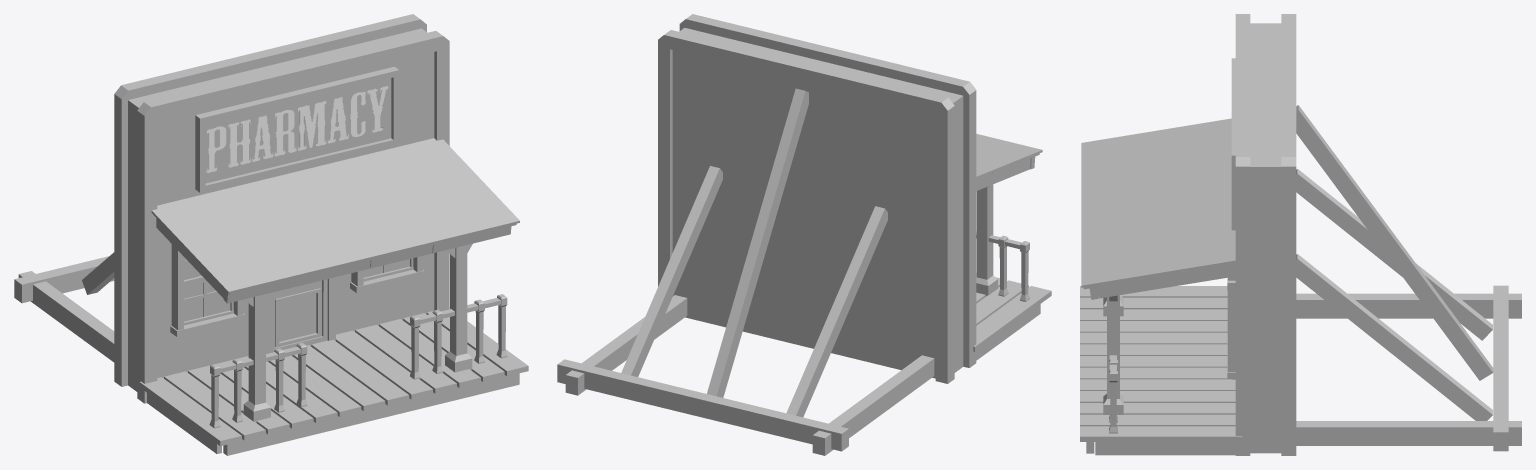
File: SM_PHARMACY.fbx
3 views of the same model, side by side, from view 1: azimuth 30°, elevation 25°; view 2: azimuth 150°, elevation 25°; view 3: azimuth 270°, elevation 25° (orthographic). The views are drawn at different scales.
Parts seen in each view (by area): view 1: SM_PHARMACY; view 2: SM_PHARMACY; view 3: SM_PHARMACY.
Part boxes in pixels (x1=…): SM_PHARMACY: x1=14, y1=14, x2=528, y2=455; SM_PHARMACY: x1=557, y1=14, x2=1051, y2=455; SM_PHARMACY: x1=1080, y1=14, x2=1521, y2=455.
Size of the model in its own units: 618 by 565 by 765.
